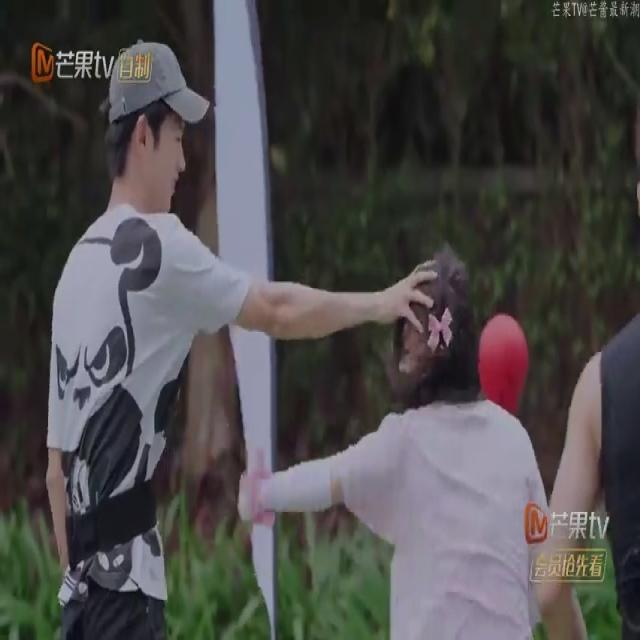fight: (42, 38, 587, 639)
